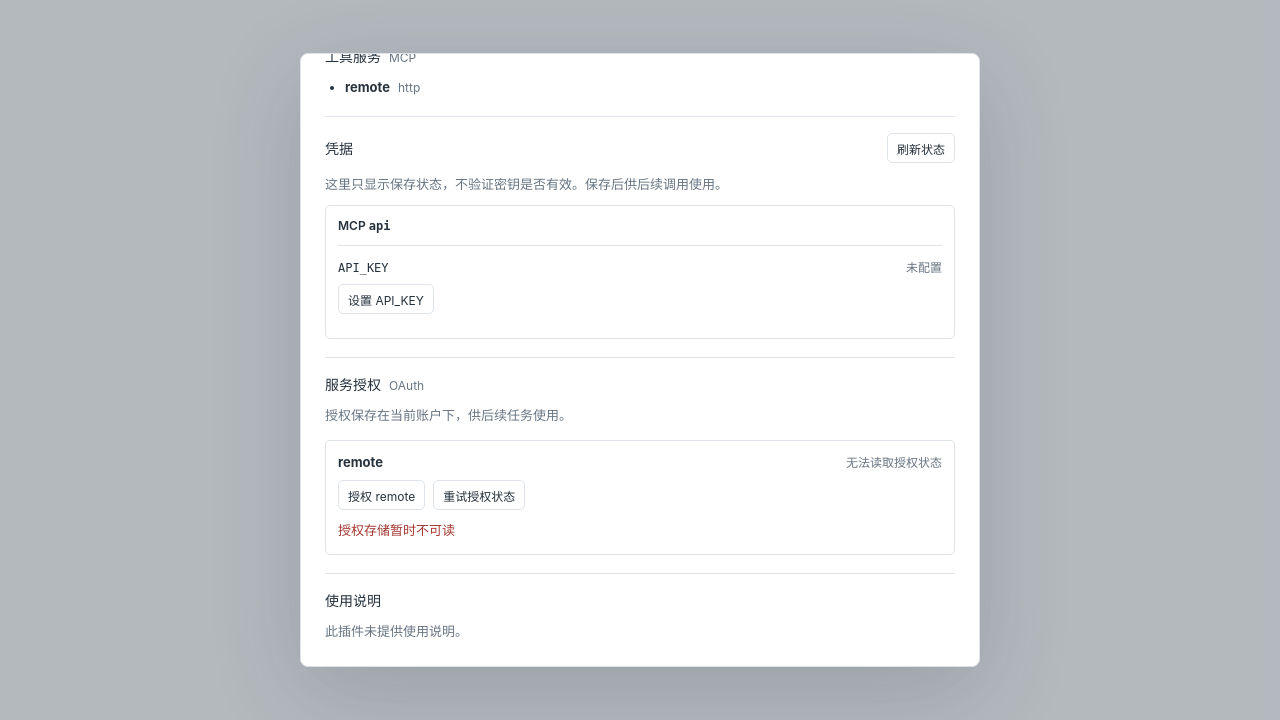
Scenario: plugin details ownership and request safety › reports unknown OAuth status and retains authorize and revoke after a retry
(page scrolled)
Expected: the text "未授权" is not shown
Click the button "重试授权状态". click: (479, 495)
box: 433,480 -> 525,510
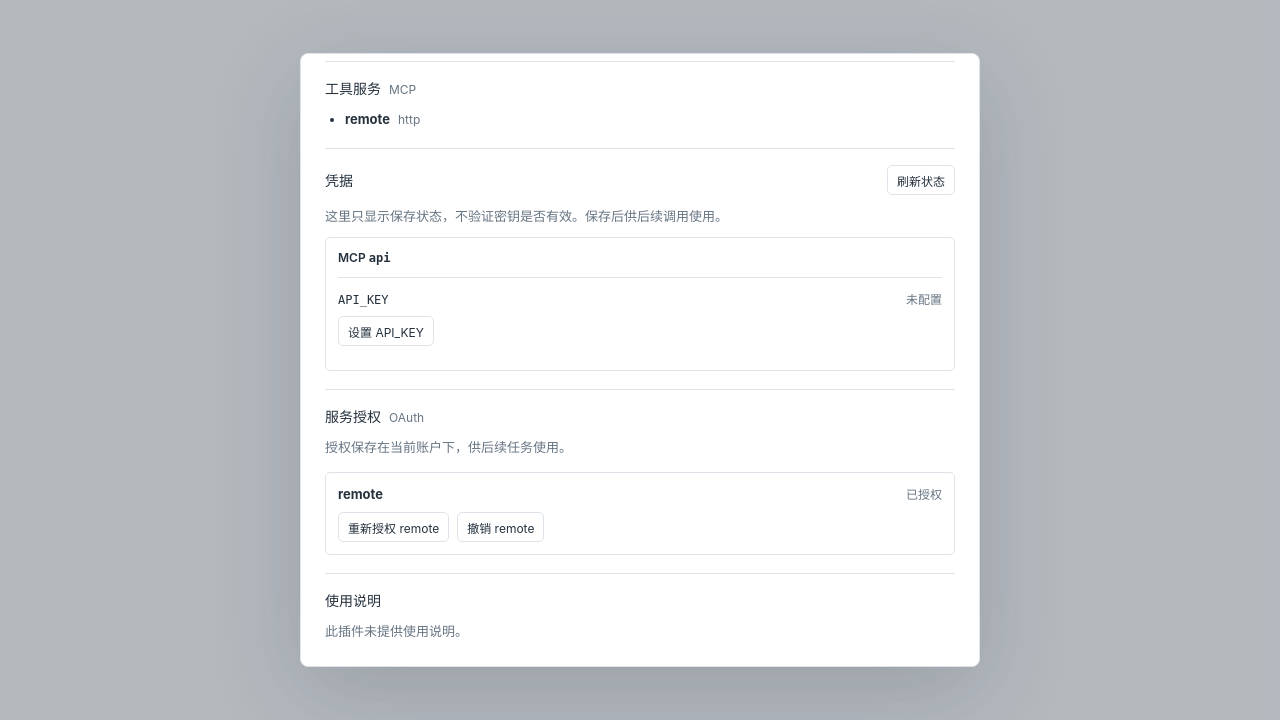
Now the text "已授权" is shown, box 906,485 -> 942,502
Now the text "重新授权 remote" is shown, box 338,512 -> 449,542
Now the text "撤销 remote" is shown
Click the button "撤销 remote". click: (501, 527)
box: 457,512 -> 544,542
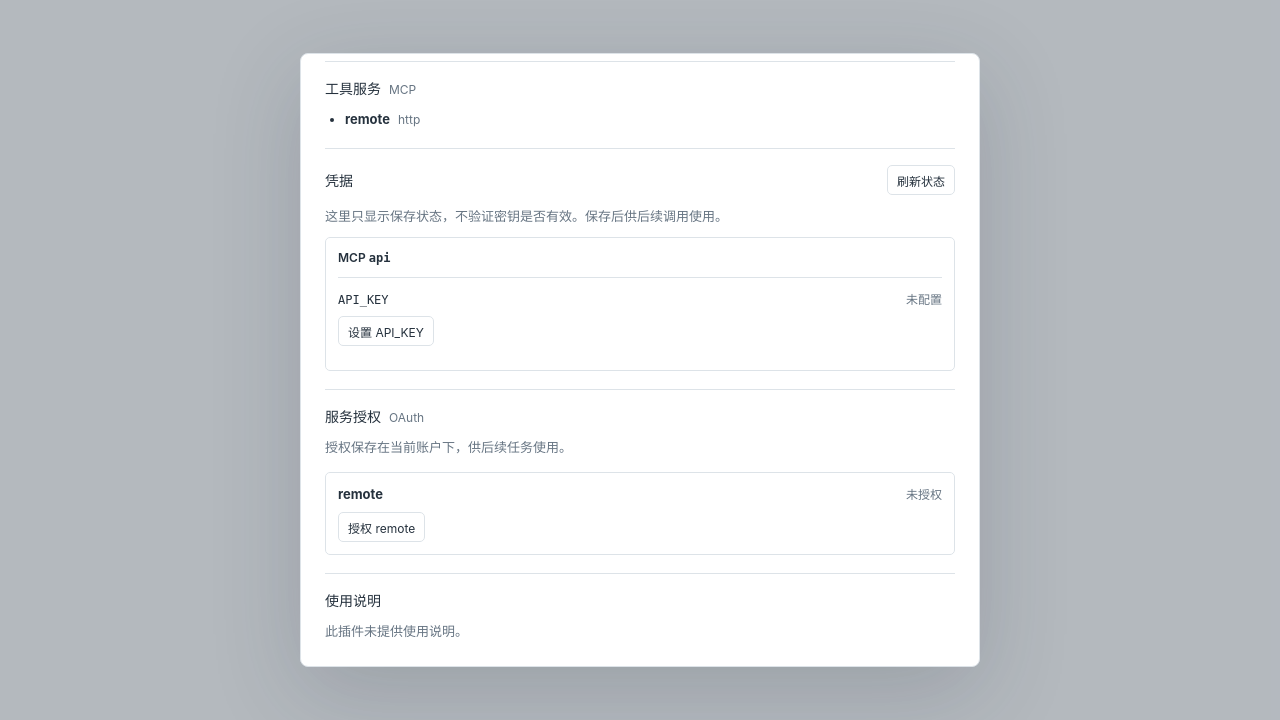
Now the text "未授权" is shown, box 906,485 -> 942,502
